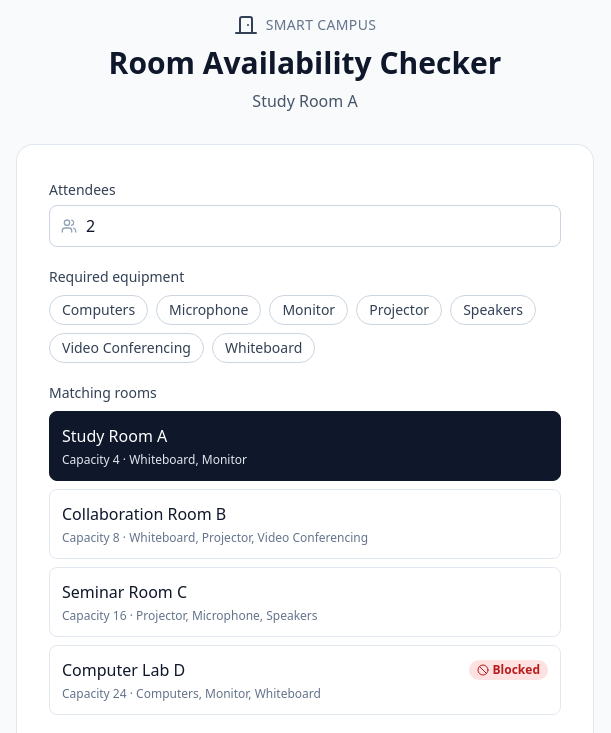
App room availability UI › shows a clear empty state when no room matches
The image size is (611, 733).
Replace the text in the number field labelled "Attendees" with "10" at (305, 226), box [49,205,561,247]
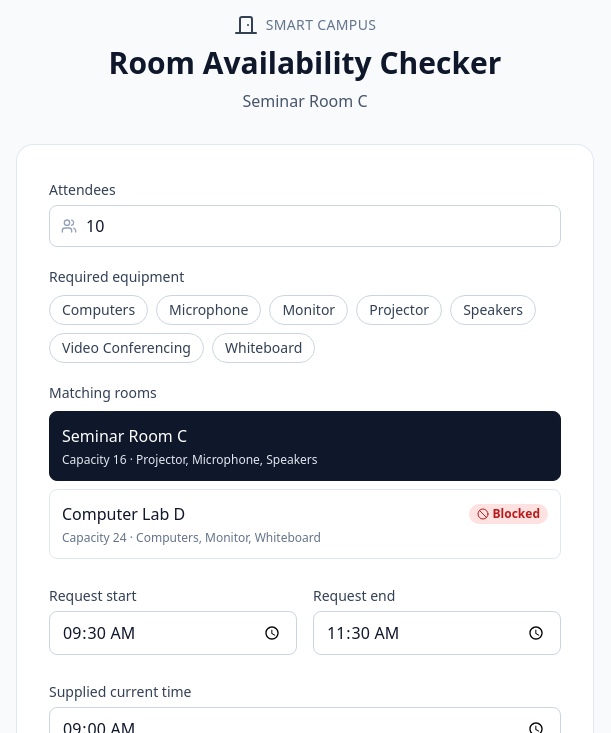
Click the button "Video Conferencing" at (126, 348), box [49,333,204,363]
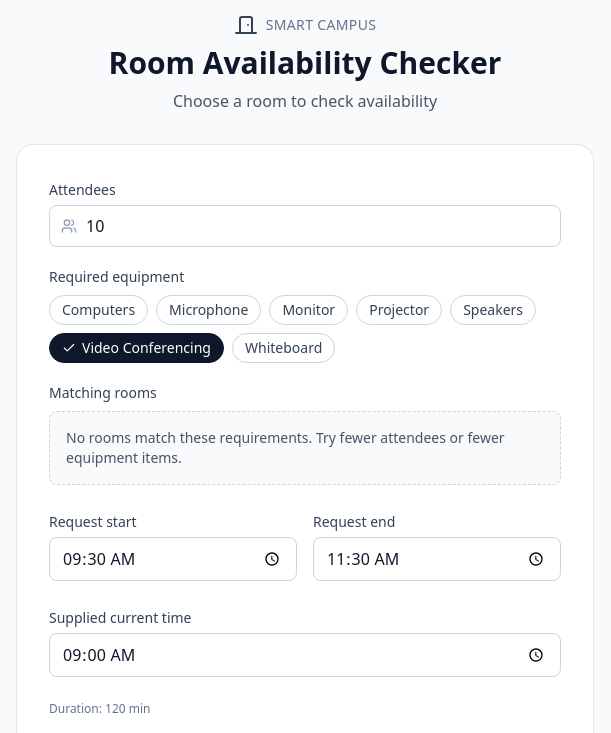
Check: the message reads "No rooms match these requirements. Try fewer attendees or fewer equipment items.", box [66,428,505,467]
Check: the text "Seminar Room C" is gone
